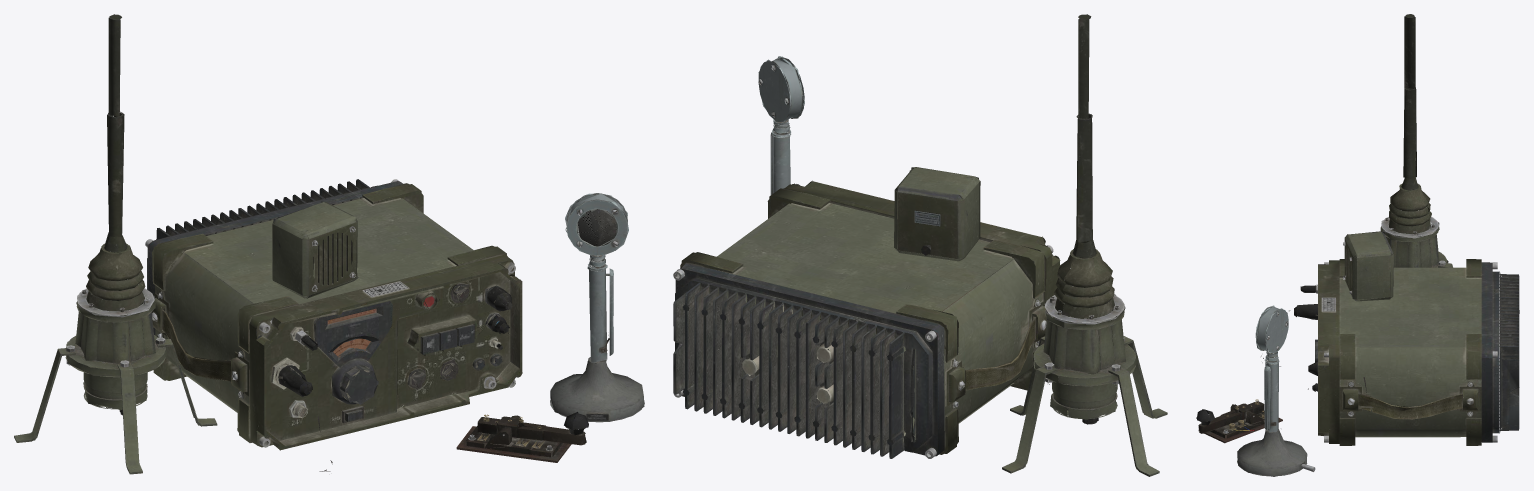
Rendered from ph_radio_transceiver.gltf.
The picture shows the model from 3 angles, left to right: view 1: azimuth 30°, elevation 25°; view 2: azimuth 150°, elevation 25°; view 3: azimuth 270°, elevation 25°; orthographic projection. The views are drawn at different scales.
Parts seen in each view (by area): view 1: Body; view 2: Body; view 3: Body.
Boxes of the visible parts, x1=… form: Body: x1=14, y1=14, x2=644, y2=474; Body: x1=673, y1=14, x2=1167, y2=476; Body: x1=1196, y1=14, x2=1519, y2=476.
Bounding box in the file's own units: 0.5657 × 0.4329 × 0.4136.
Materials: 2 (2 with a texture image).
